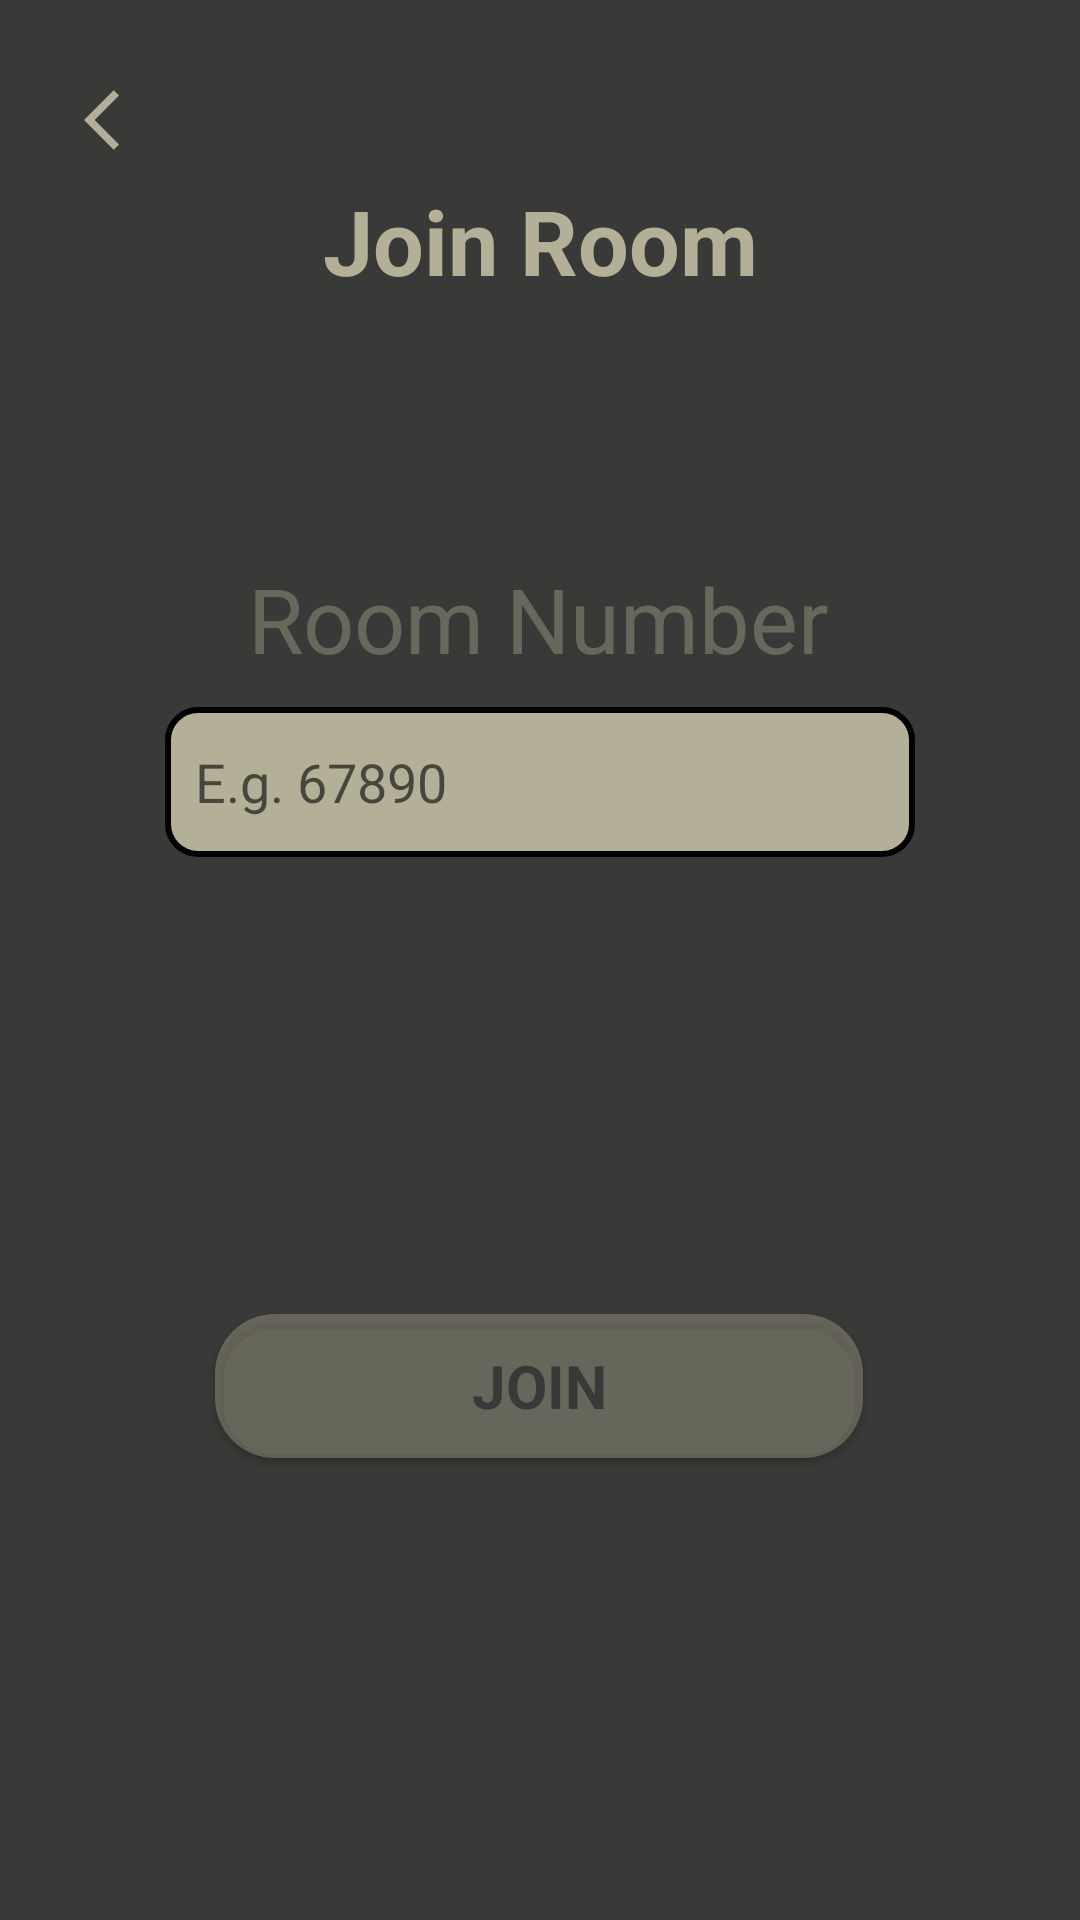

Point at icon controls on the screen. Image size 1080*1920, points as [x,y].
arrow back: [101,120]
